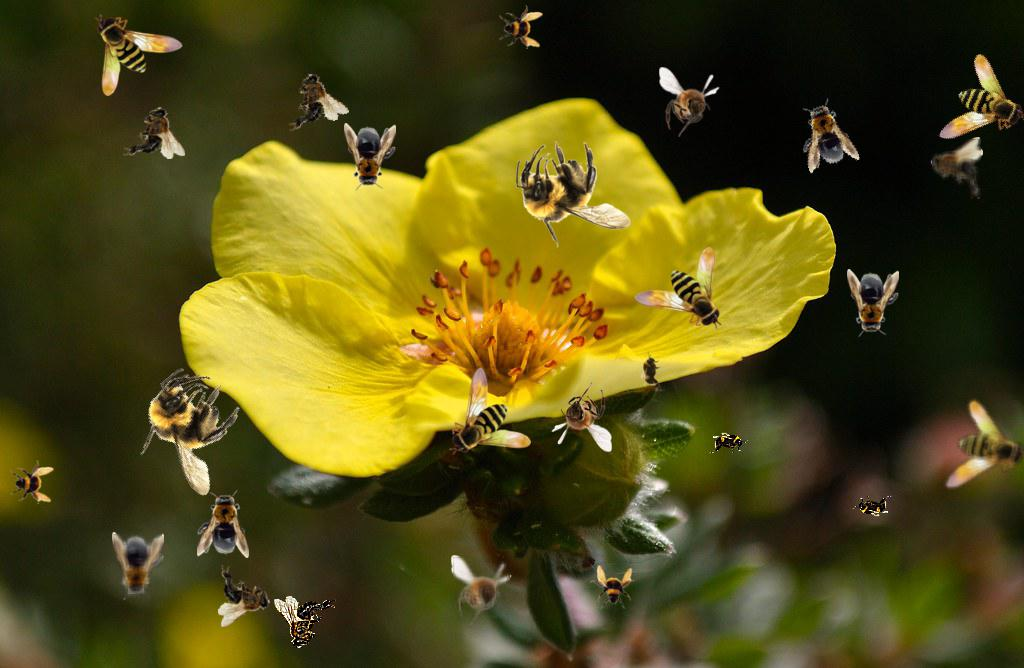Bee: (113, 354, 270, 511), (912, 392, 1024, 512), (913, 48, 1024, 164), (516, 141, 631, 248), (95, 14, 183, 96), (449, 367, 531, 455), (634, 247, 722, 329), (789, 94, 861, 176), (274, 65, 351, 135), (451, 555, 512, 625), (659, 67, 720, 137), (551, 382, 612, 452), (112, 532, 164, 600), (344, 123, 396, 191), (197, 490, 249, 558), (847, 269, 899, 337), (218, 565, 271, 627), (274, 596, 336, 649), (930, 137, 983, 199), (123, 106, 185, 159), (590, 565, 634, 609), (10, 460, 54, 504), (499, 5, 543, 49), (709, 432, 749, 454), (852, 495, 892, 517), (640, 351, 662, 391)
